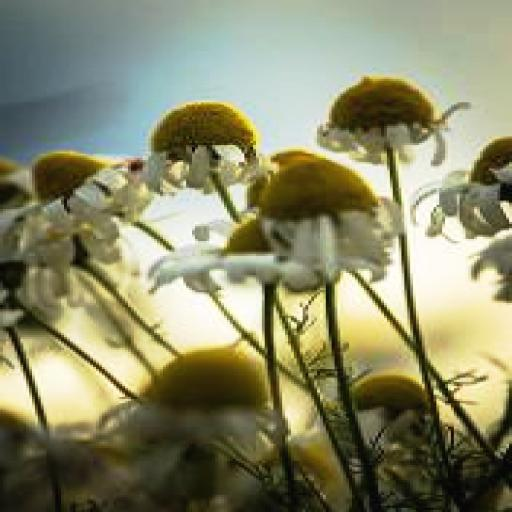daisy: (148, 160, 410, 279), (108, 348, 279, 454), (26, 143, 163, 232), (314, 77, 463, 158), (381, 139, 512, 224), (142, 100, 268, 182), (326, 373, 442, 446)
